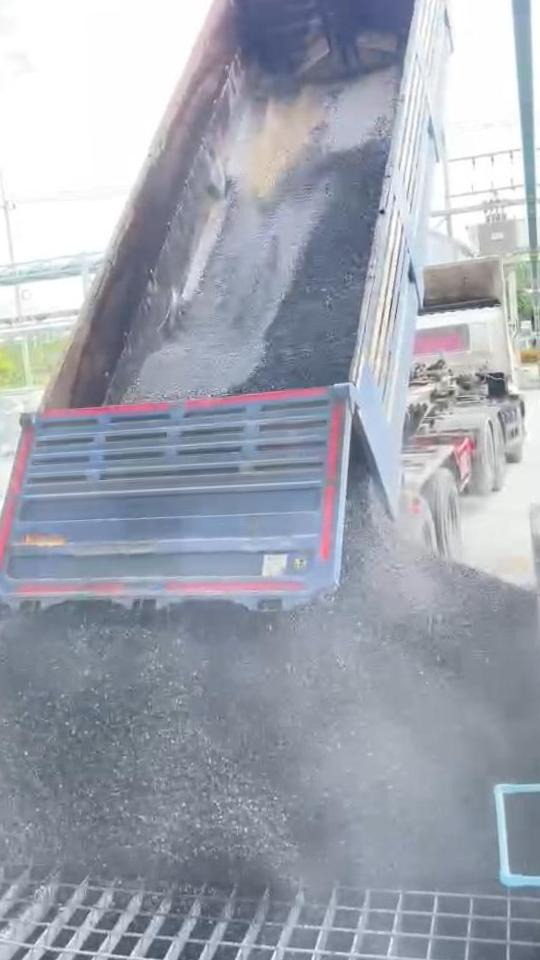gravel: (0, 550, 540, 889), (108, 70, 398, 401), (329, 457, 408, 624), (509, 793, 540, 873)
